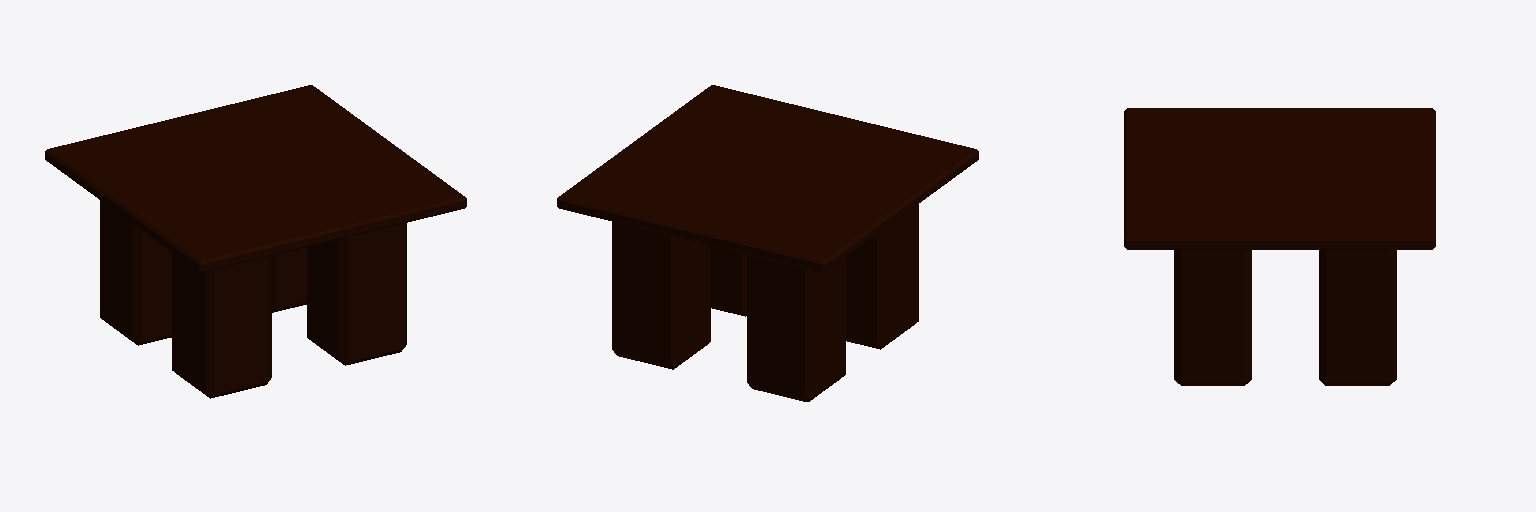
File: BMBADTABLE.obj
3 views of the same model, side by side, from view 1: azimuth 30°, elevation 25°; view 2: azimuth 150°, elevation 25°; view 3: azimuth 270°, elevation 25° (orthographic).
Visible parts, largest first — view 1: Cube; view 2: Cube; view 3: Cube.
Part boxes in pixels (x1,y1,x2,y2): Cube: (45,85,466,398); Cube: (557,85,978,401); Cube: (1124,108,1435,385).
Bounding box in the file's own units: 2 × 1.18 × 2.